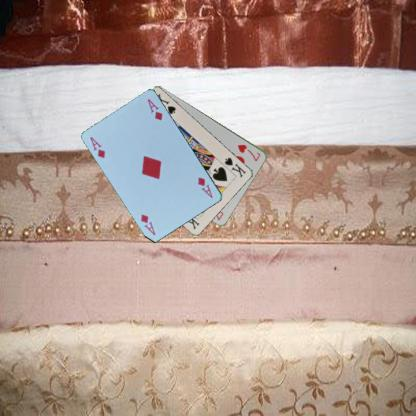7h: (235, 141, 262, 163)
Ad: (87, 134, 107, 160), (196, 174, 214, 200)
Ks: (222, 155, 248, 179)
